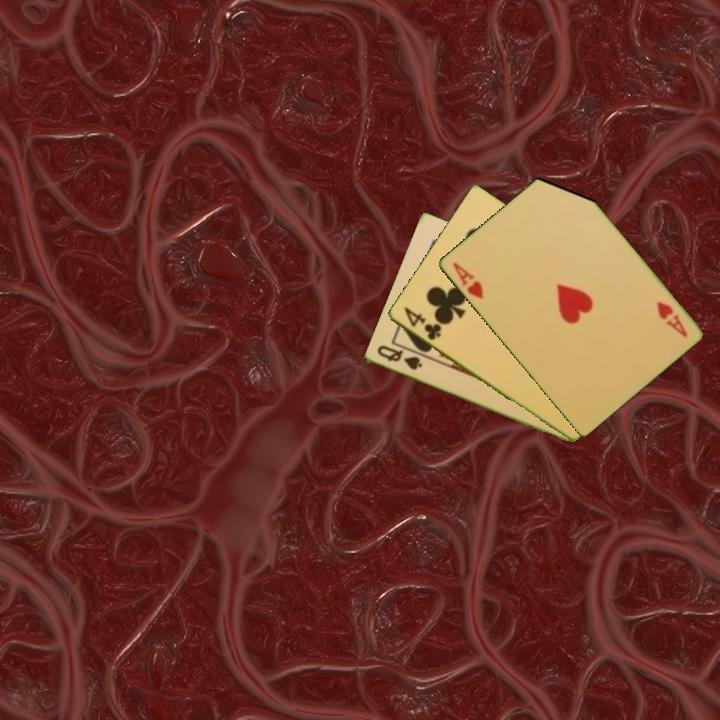4c: (400, 303, 444, 343)
Ah: (449, 258, 486, 302), (652, 298, 690, 340)
Qs: (373, 342, 425, 373)
